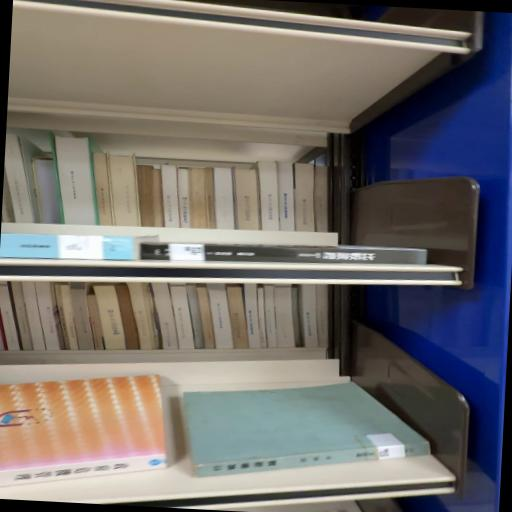flat: (184, 383, 431, 478), (1, 376, 167, 488), (142, 243, 428, 266), (1, 233, 148, 261)
